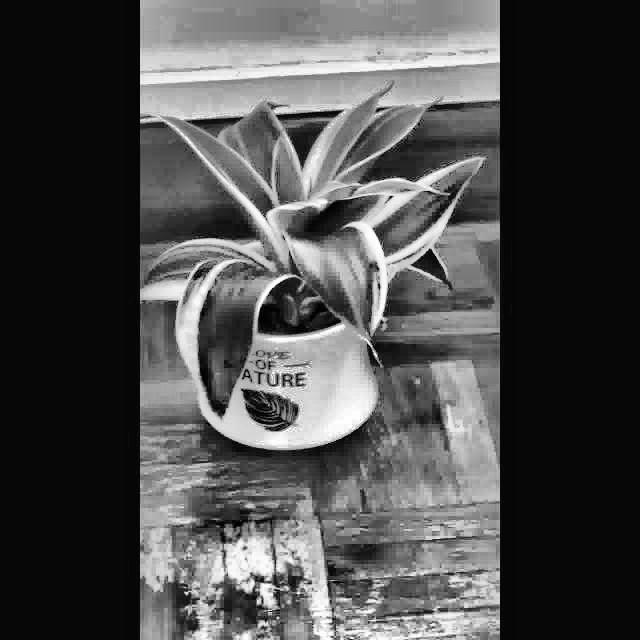plants: (140, 80, 485, 462)
